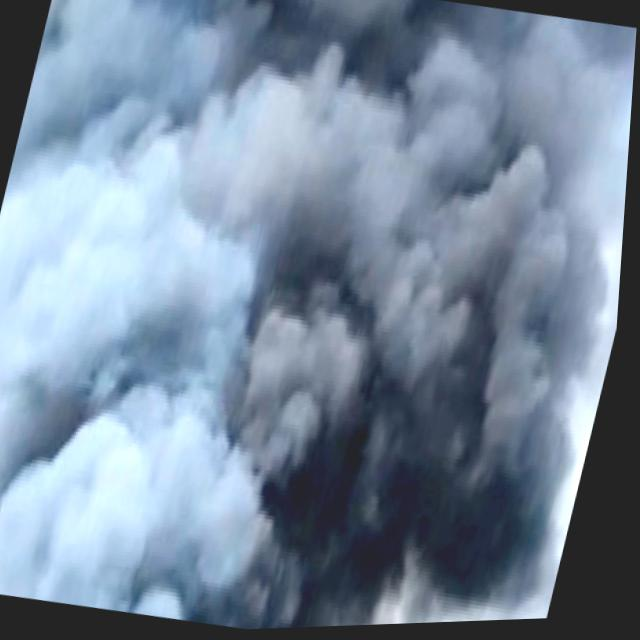smoke: (165, 27, 638, 611), (0, 0, 324, 423), (0, 351, 266, 632)
